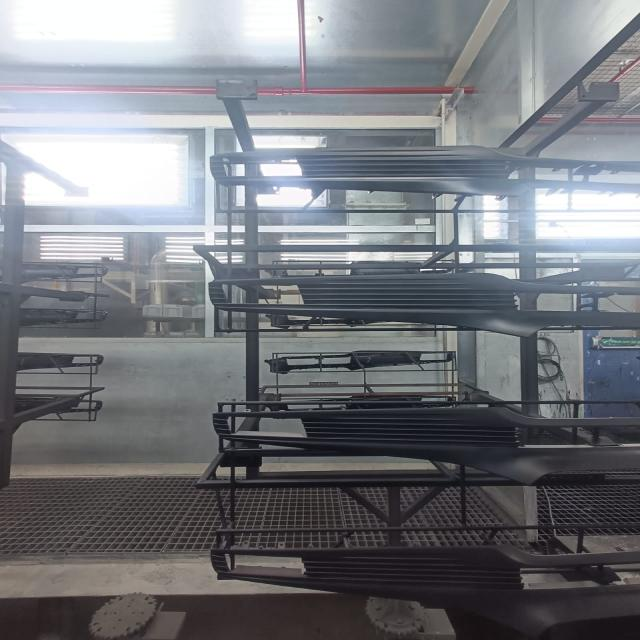Primered: (205, 542, 640, 640), (209, 402, 640, 493), (203, 271, 640, 340), (200, 148, 640, 204)
